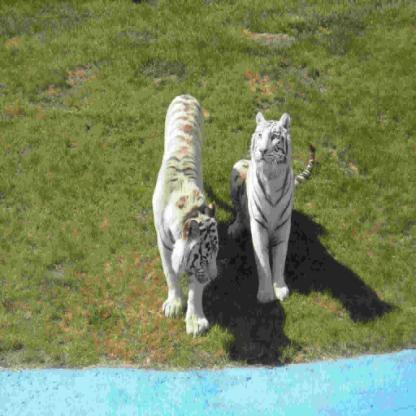Tiger: (223, 94, 352, 308), (133, 72, 237, 334)
